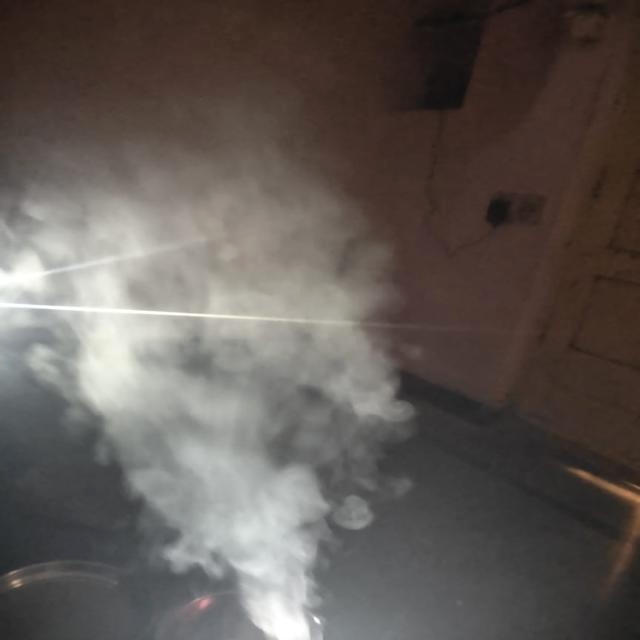smoke: (48, 181, 269, 495)
